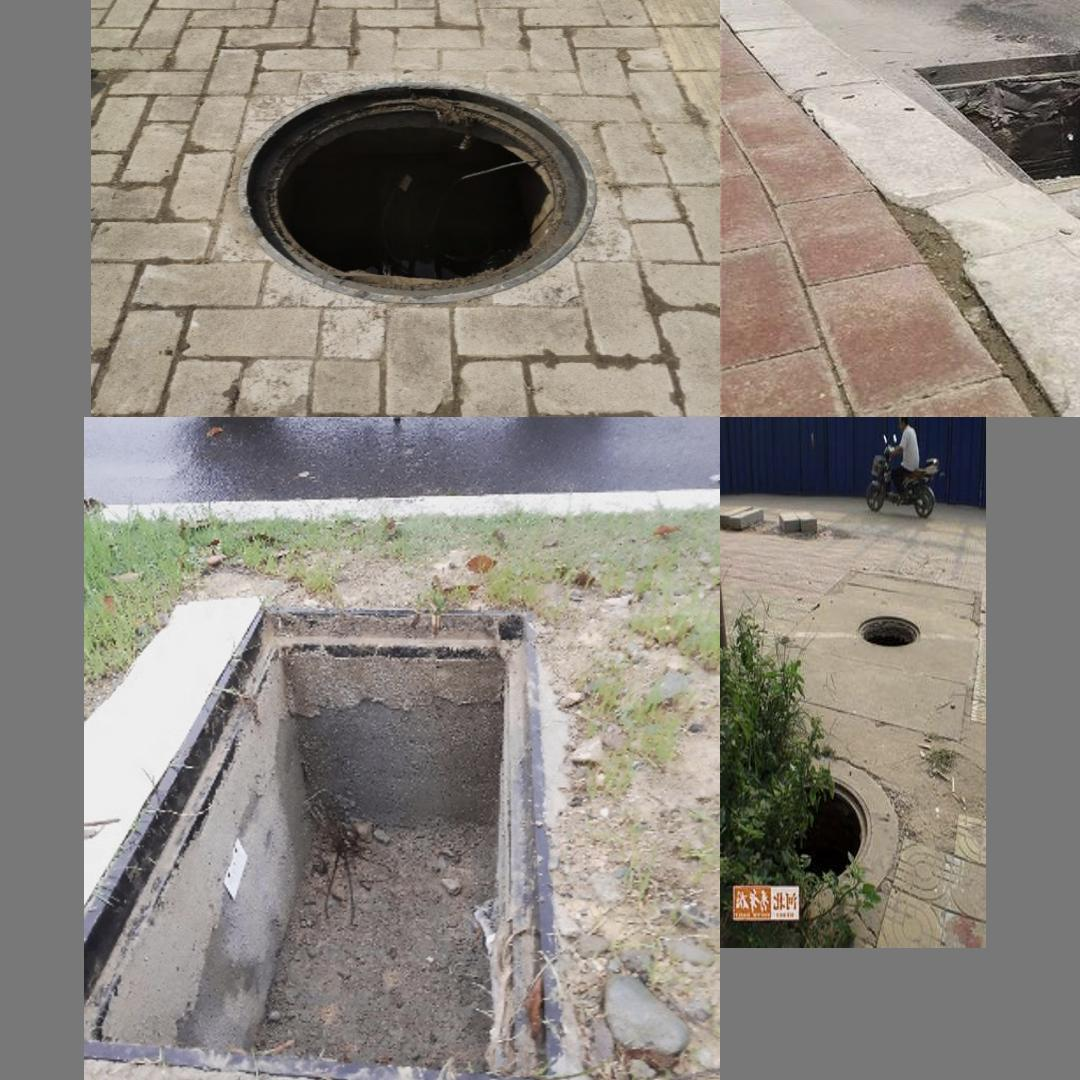lose: (84, 589, 554, 1077), (235, 80, 596, 303), (882, 40, 1080, 410), (743, 753, 893, 916), (850, 605, 925, 657)
